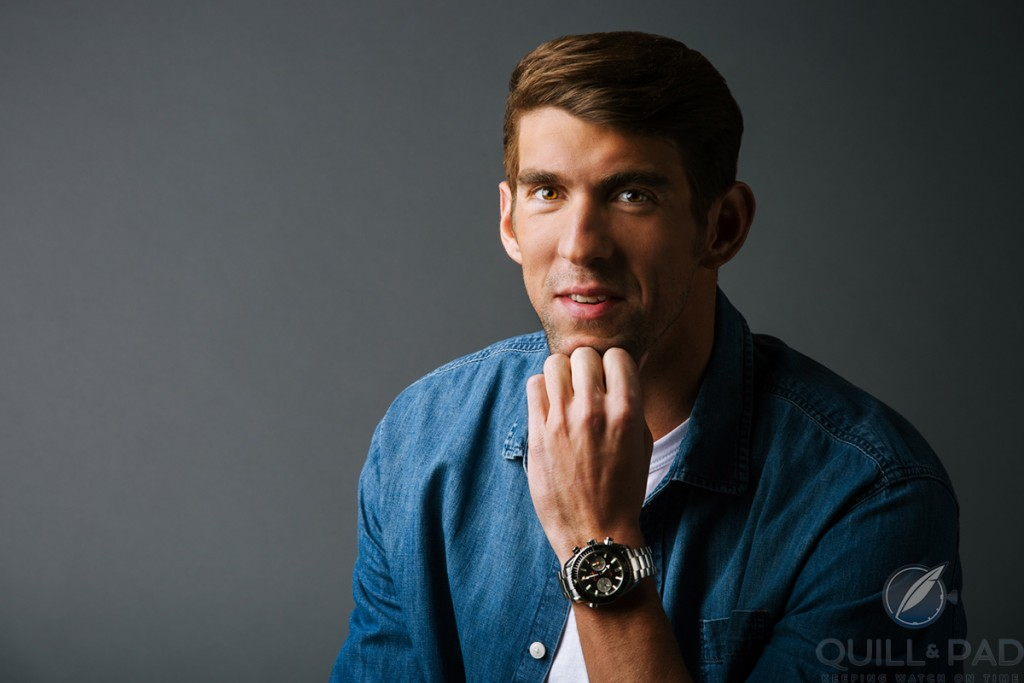clock: (576, 551, 628, 604)
